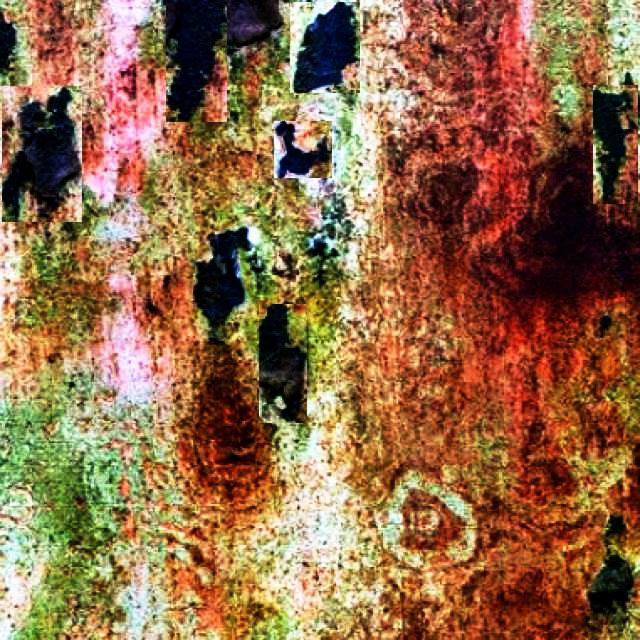Corrosion: (1, 92, 75, 220), (167, 0, 223, 120), (294, 2, 355, 92), (594, 89, 631, 198), (193, 233, 236, 322), (258, 305, 290, 422), (589, 565, 633, 628), (270, 347, 306, 420), (274, 123, 314, 178), (605, 516, 626, 554)
